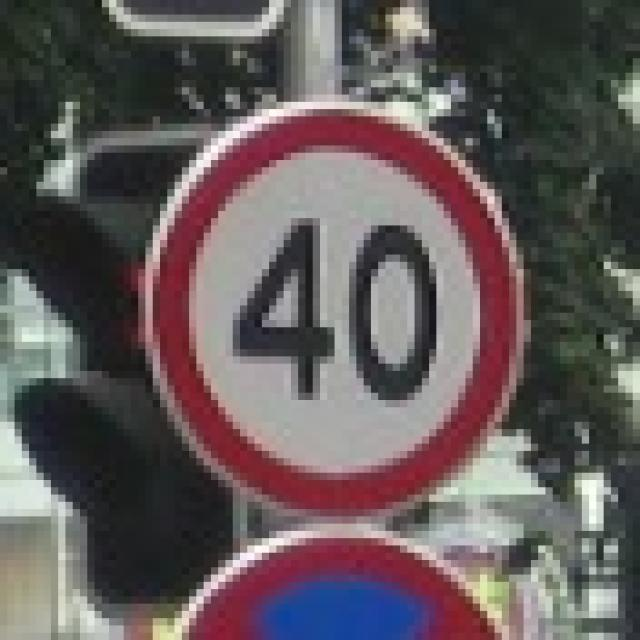Speed Limit -40-: (230, 216, 447, 410)
